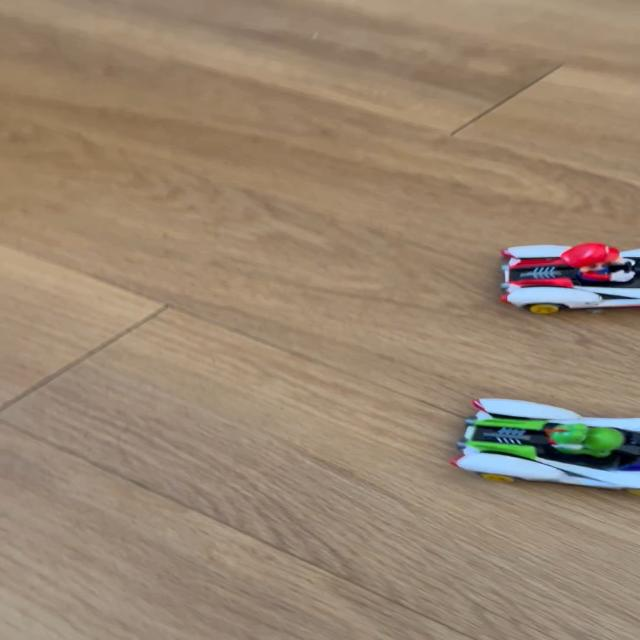mario: (477, 231, 640, 318)
yoshi: (440, 392, 638, 497)
